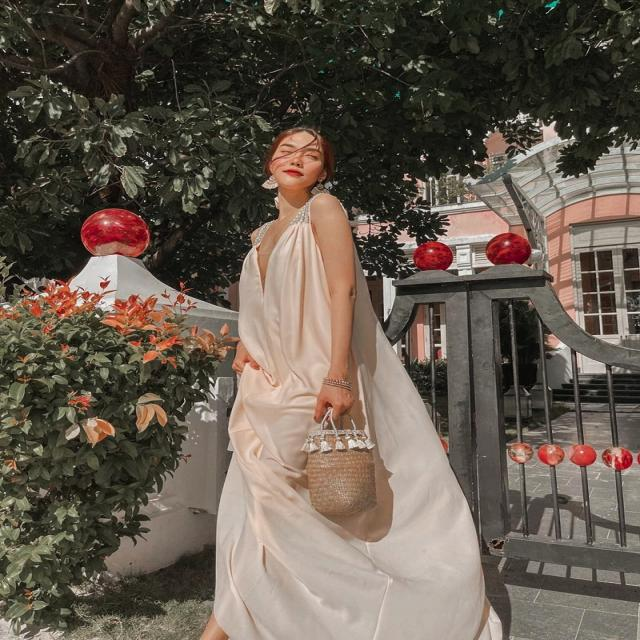clothes: (213, 197, 504, 640)
